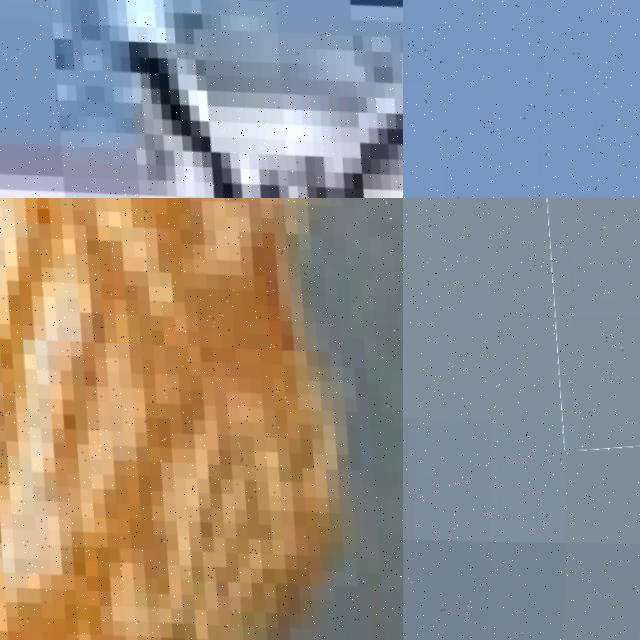0: (0, 0, 403, 198), (539, 198, 640, 448)
drone: (0, 198, 403, 640)
